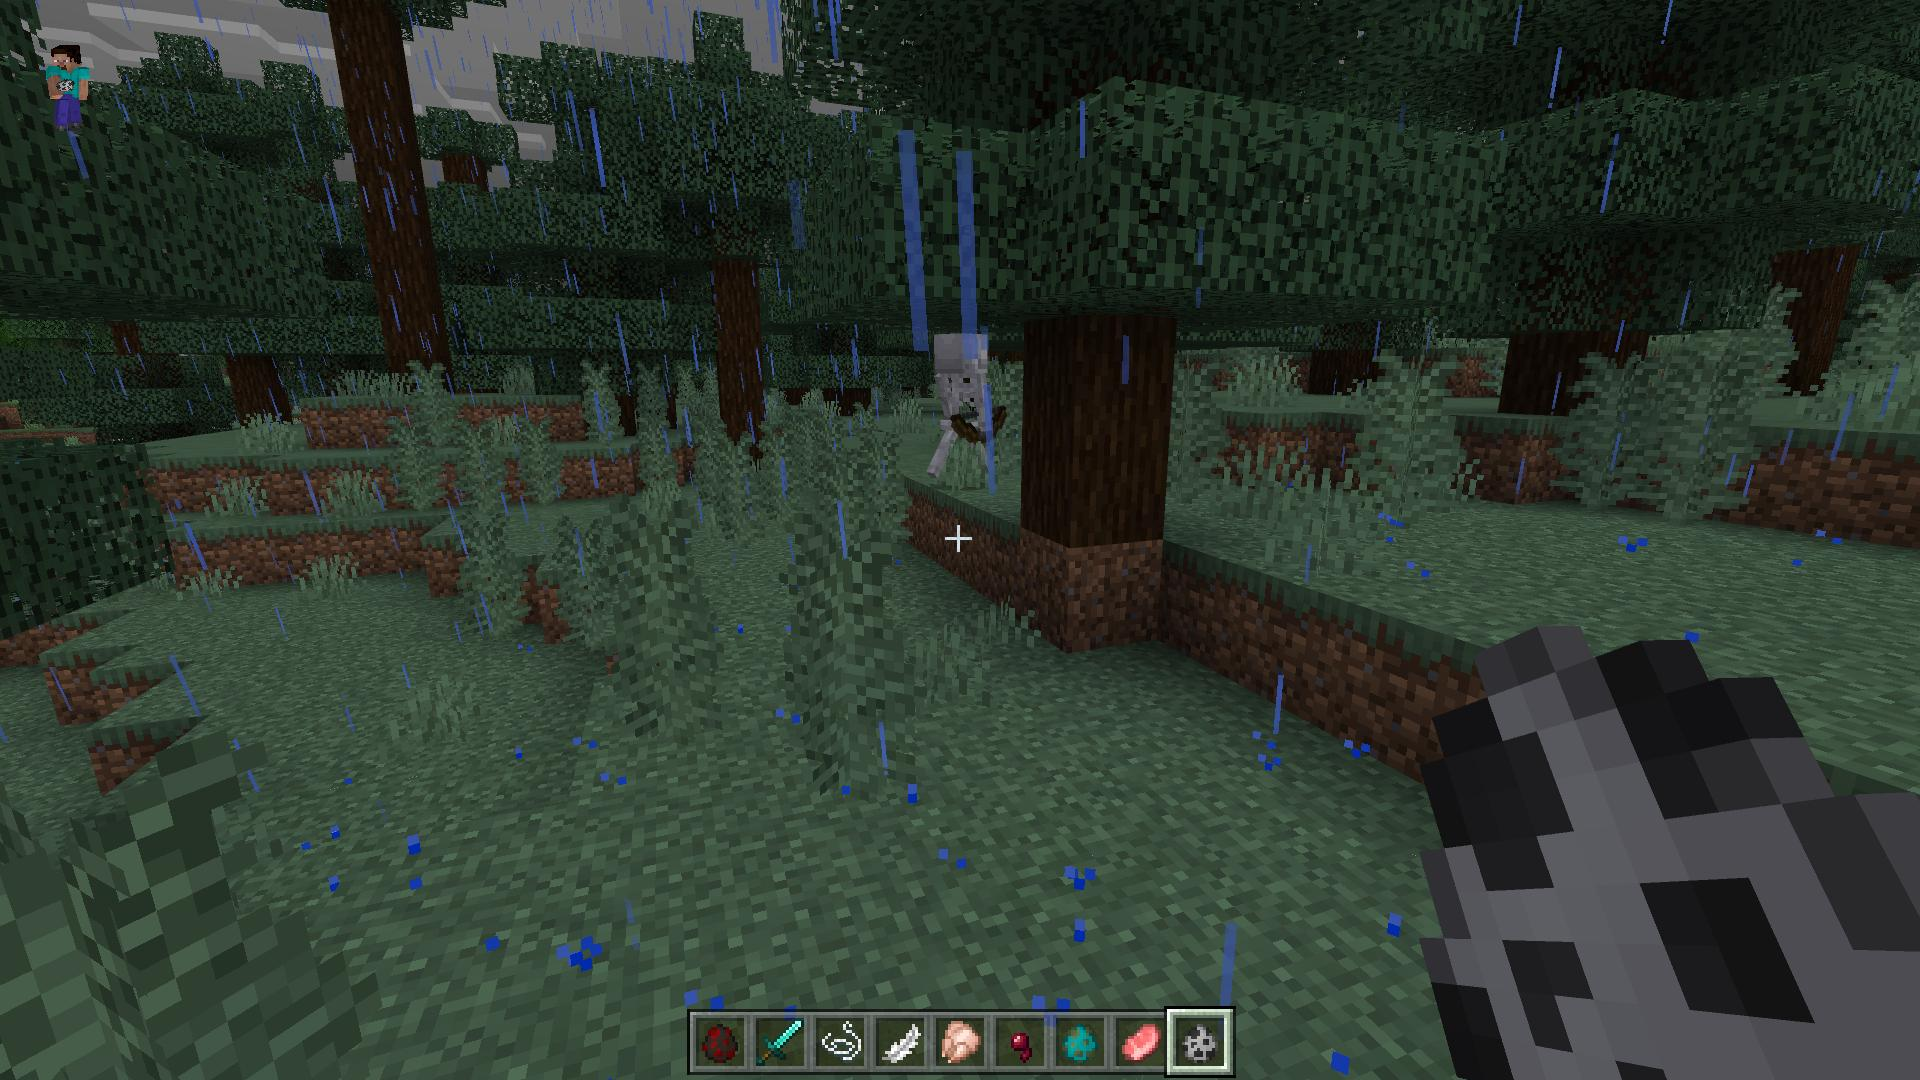skeleton: (930, 328, 1006, 485)
